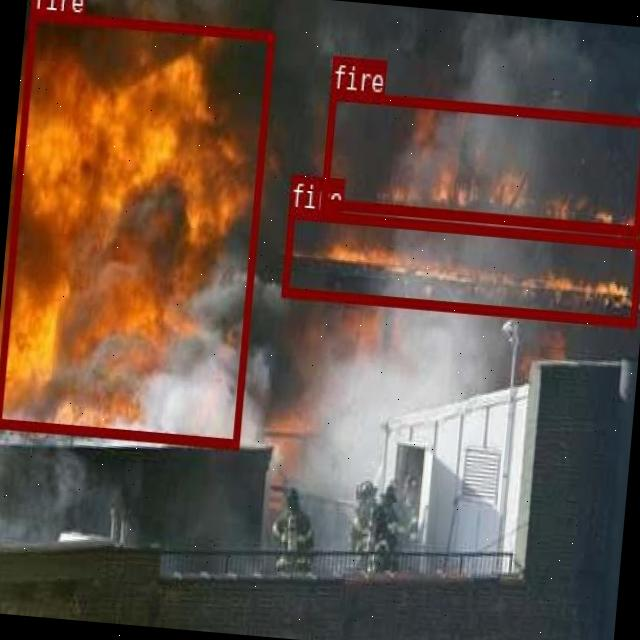fire: (0, 9, 272, 447), (320, 88, 640, 234), (280, 207, 640, 324)
